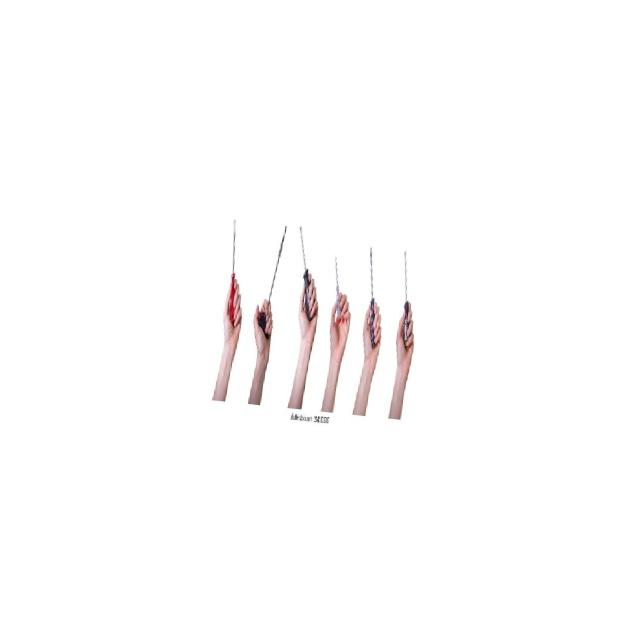screwdriver: (253, 218, 289, 341), (287, 215, 323, 322), (392, 247, 421, 353), (220, 212, 246, 328), (358, 244, 386, 350), (325, 249, 349, 328)
